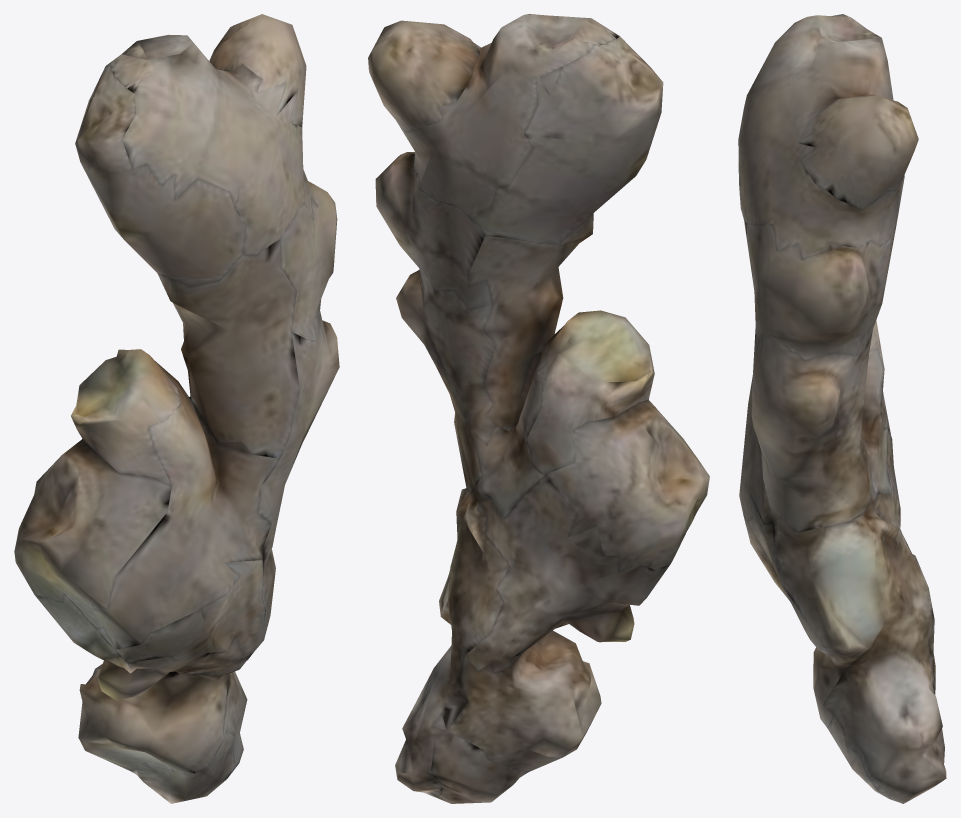
The model's file is food_ginger_01.glb.
3 renders of one model, left to right at view 1: azimuth 30°, elevation 25°; view 2: azimuth 150°, elevation 25°; view 3: azimuth 270°, elevation 25°, orthographic. The views are drawn at different scales.
Visible parts, largest first — view 1: food_ginger_01; view 2: food_ginger_01; view 3: food_ginger_01.
Boxes of the visible parts, left/top/right/bottom form: food_ginger_01: left=14, top=14, right=339, bottom=803; food_ginger_01: left=368, top=14, right=709, bottom=803; food_ginger_01: left=738, top=14, right=946, bottom=803.
Size of the model in its own units: 0.2399 by 0.5746 by 0.1461.
Materials: 1 (1 with a texture image).
